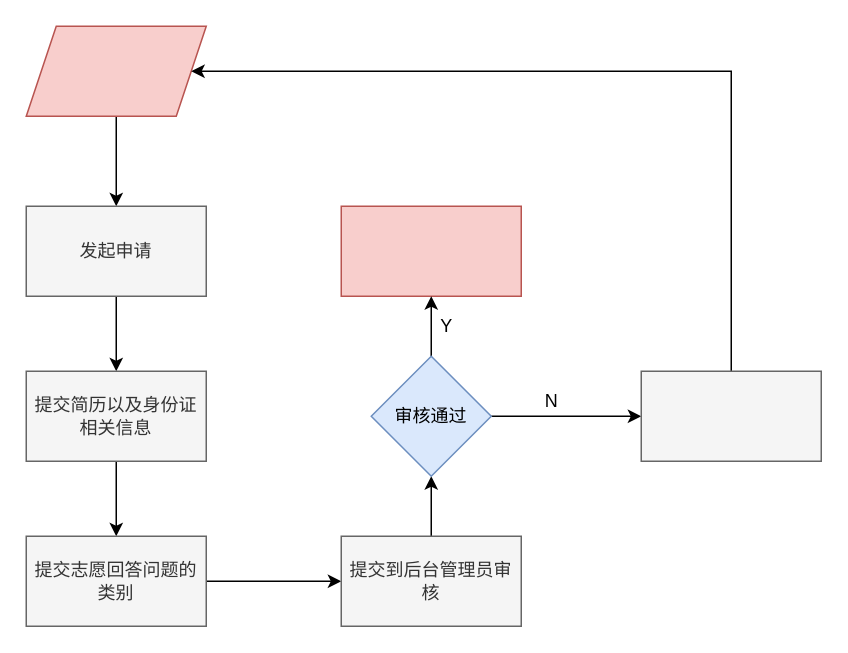
This 848x653 diagram has some shape labels left out. Here are the shapes that lost their labels. From the top down, the centre of each, then its label:
point 115,70: 开始
point 430,250: 成为志愿教授
point 730,415: 请求驳回
